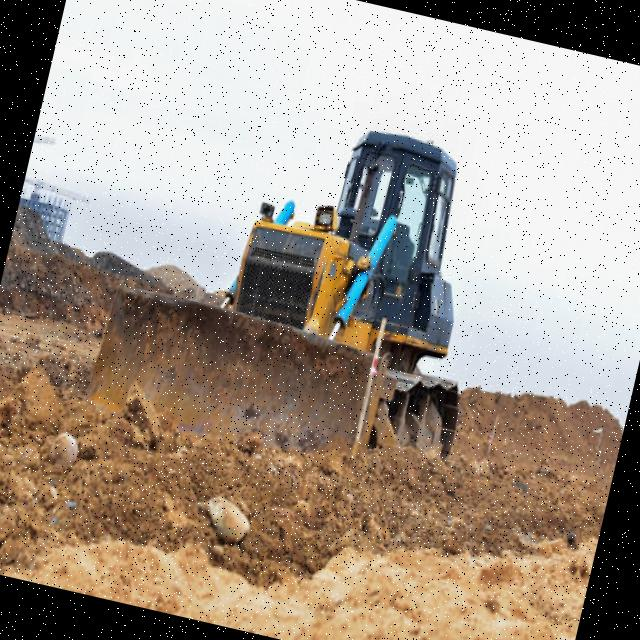Bulldozer: (74, 74, 522, 516)
